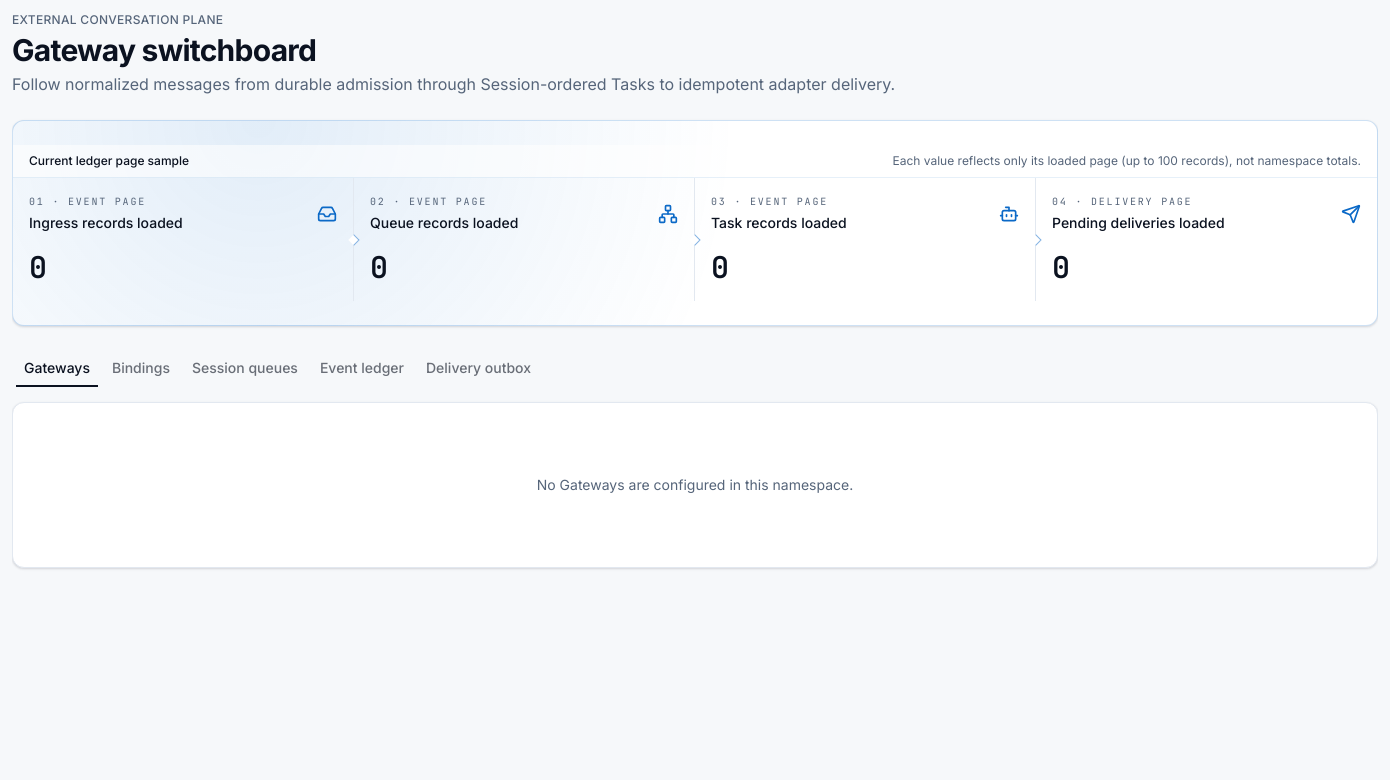
GatewayPage › navigates gateway event pages explicitly
Expected: the text "No Gateways are configured in this namespace." is shown, x1=537 y1=476 x2=853 y2=493
Click the tab "Event ledger".
click(362, 368)  # box x1=311 y1=354 x2=413 y2=382
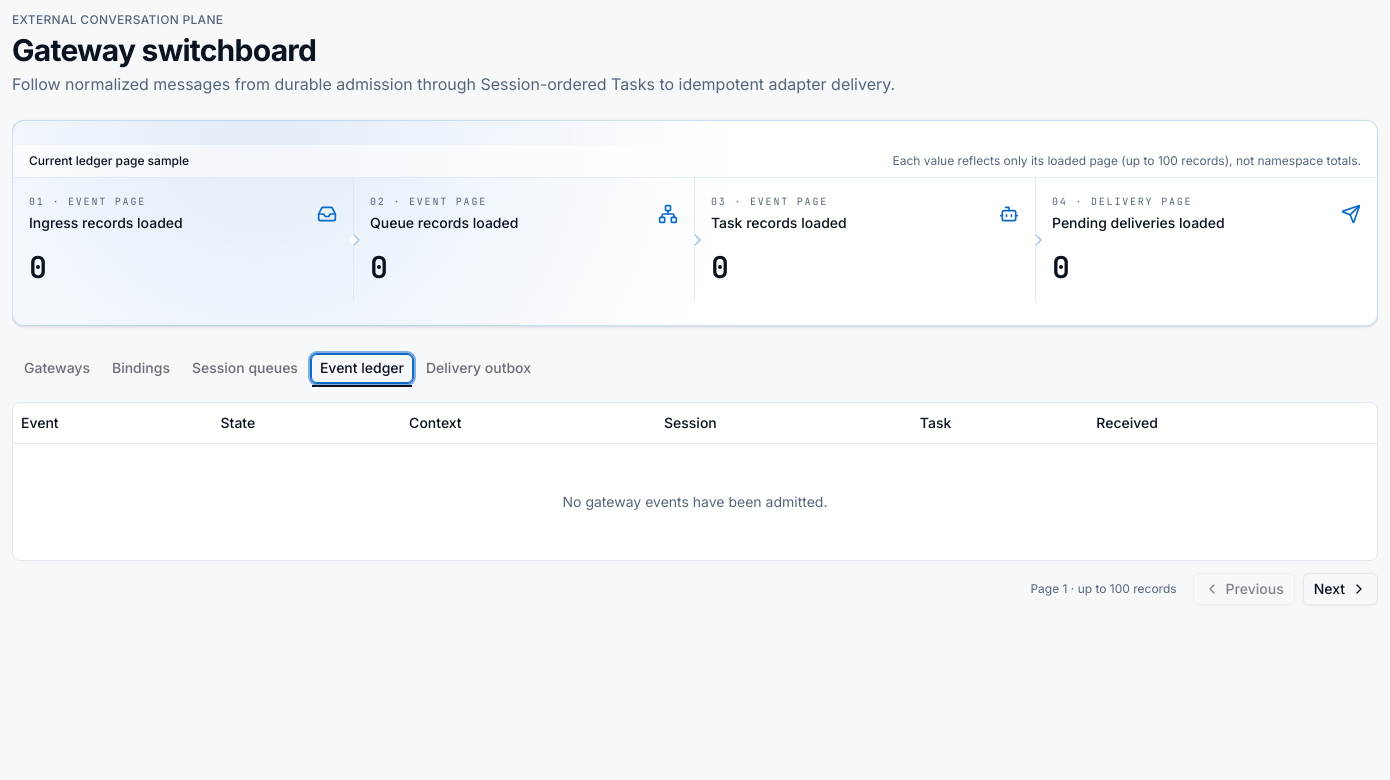
Expected: the button with aria-label "Next events page" is enabled
Click the button with aria-label "Next events page".
click(1340, 588)  # box x1=1303 y1=572 x2=1378 y2=604
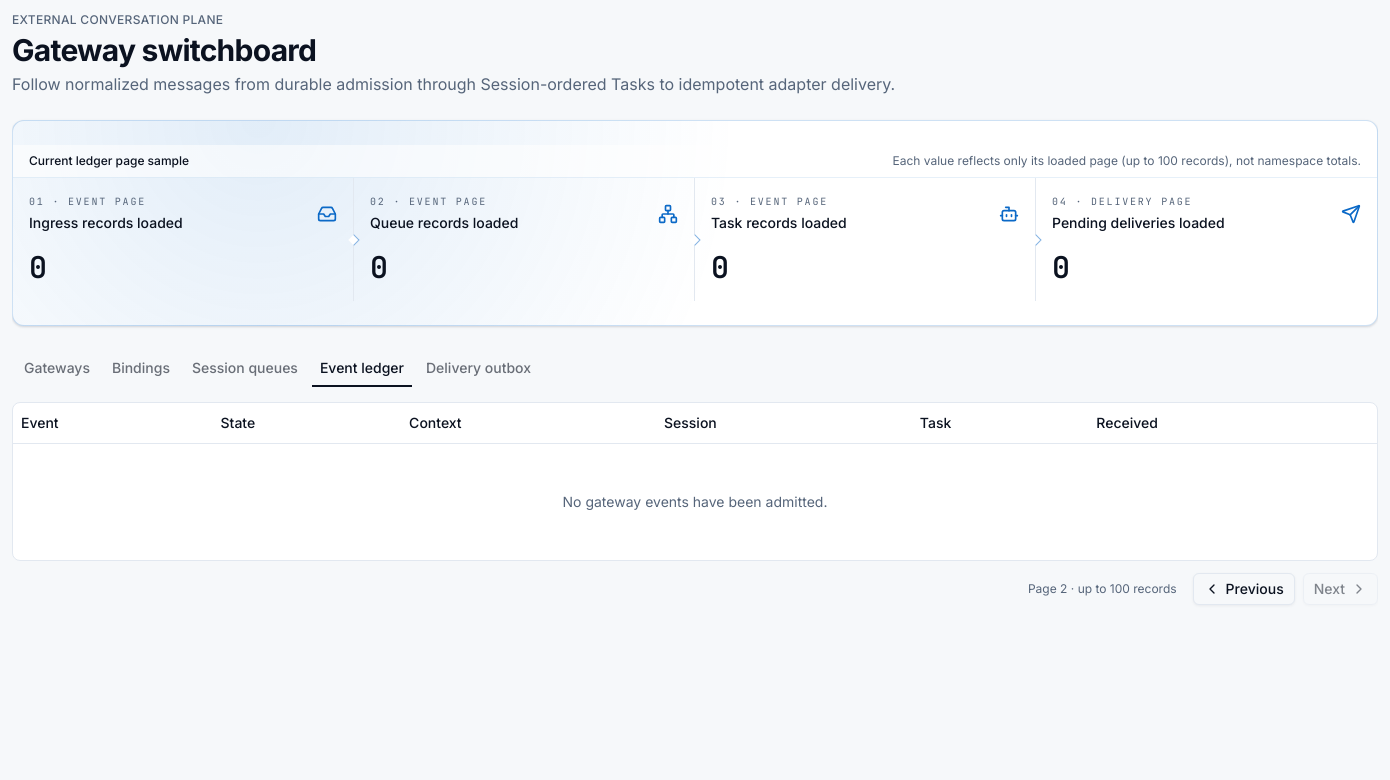
Expected: the text "Page 2 · up to 100 records" is shown, x1=1028 y1=580 x2=1177 y2=596
Expected: the button with aria-label "Previous events page" is enabled, x1=1193 y1=572 x2=1295 y2=604
